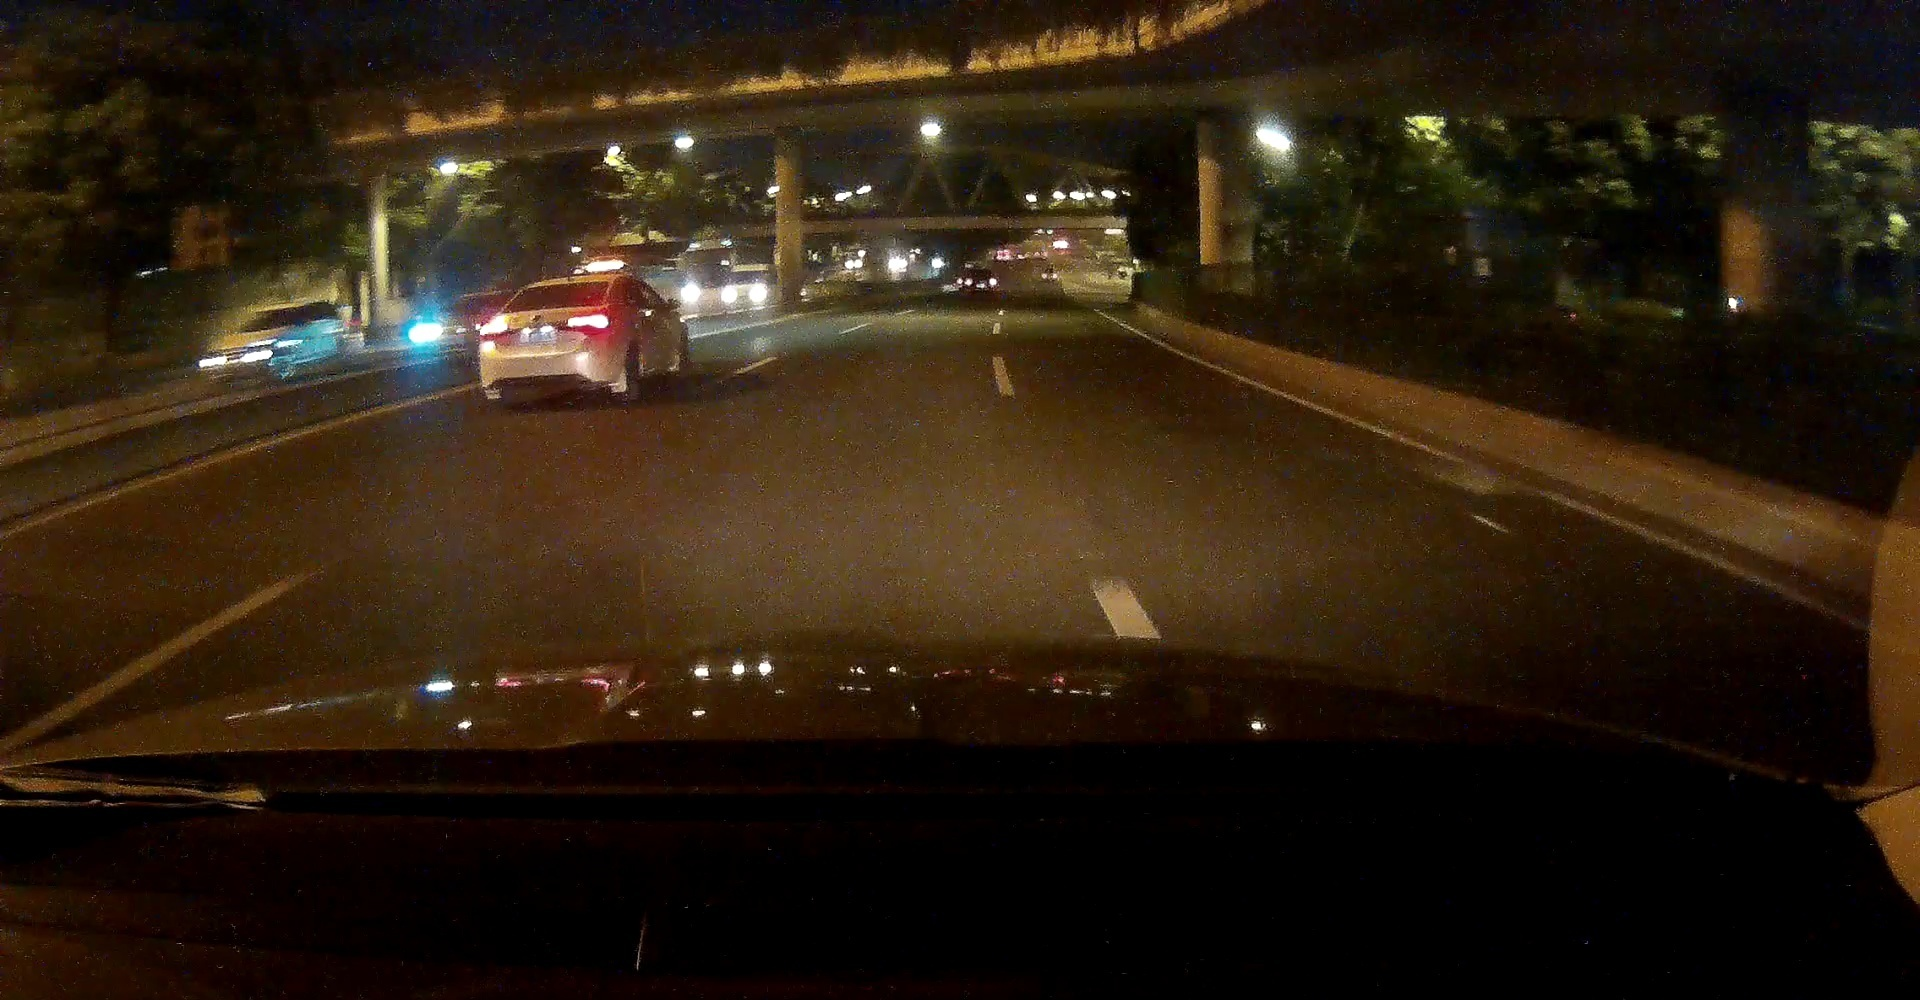L_light: (480, 322, 508, 338)
R_light: (568, 313, 610, 329)
T_light: (555, 286, 577, 288)
night-no: (477, 272, 615, 402)
